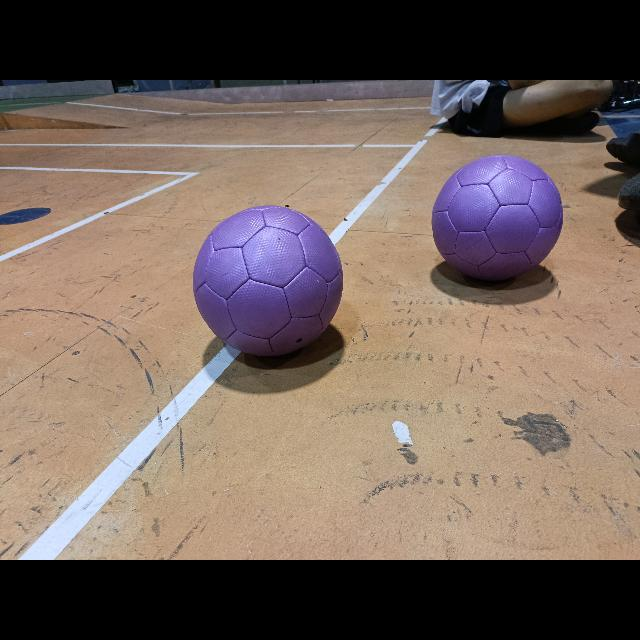P: (194, 206, 342, 356), (433, 154, 563, 280)
